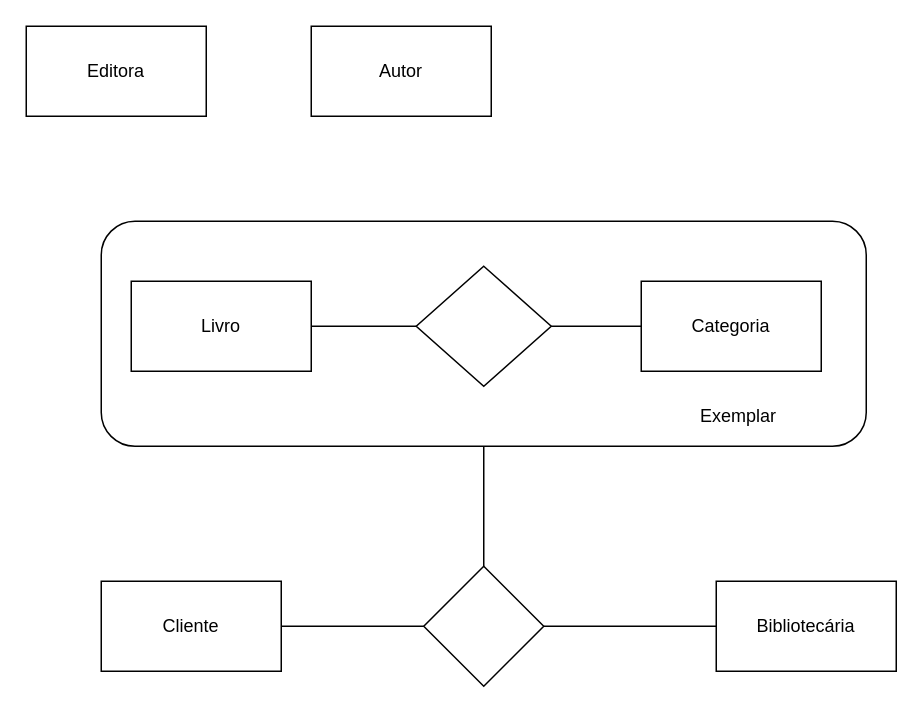
Image size: 923x713. Some labels were removed from this diagram. The centre of each missing label's shape, as x and y in pixels:
Empréstimo: the point at 483,625
Pertence: the point at 483,325
